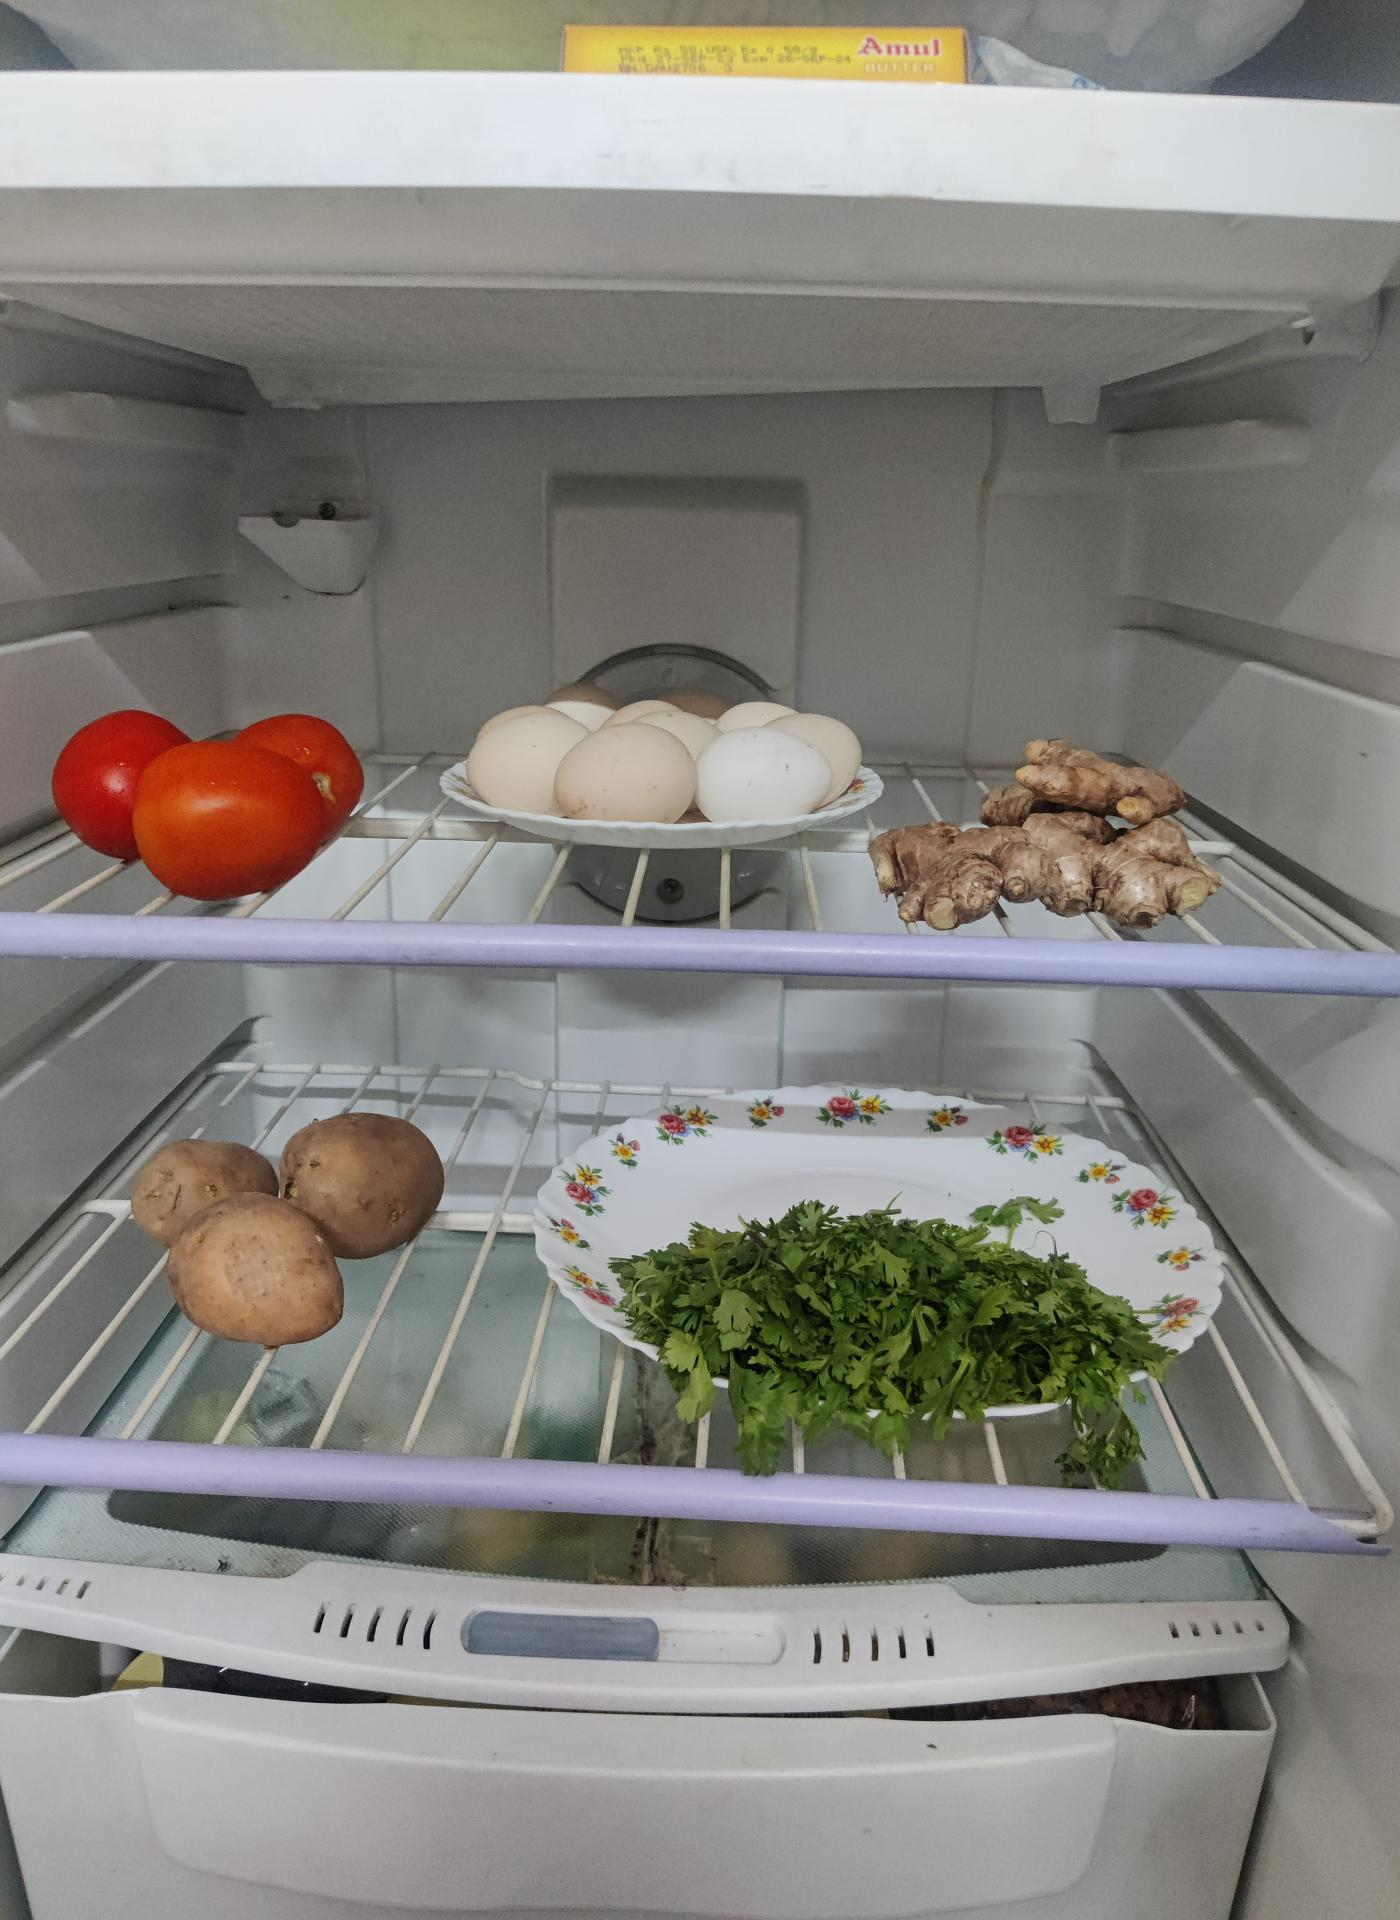coriander: (598, 1197, 1175, 1455)
egg: (459, 699, 865, 878)
ginger: (866, 727, 1209, 930)
potato: (131, 1111, 446, 1351)
tomato: (52, 708, 367, 902)
